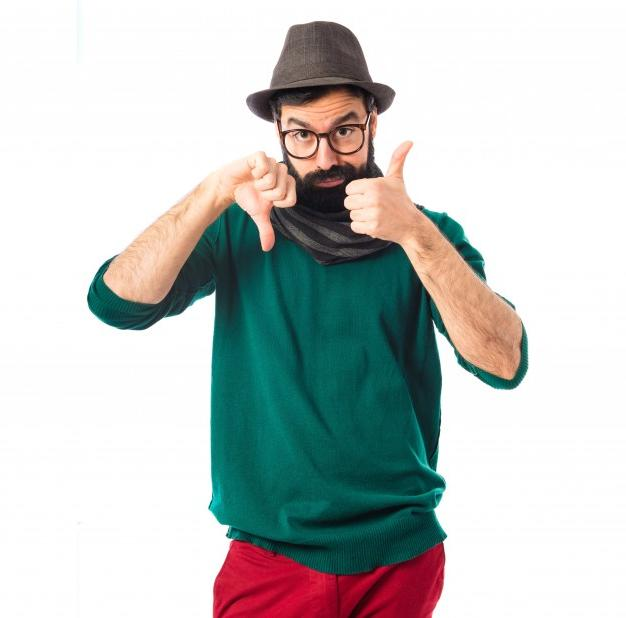thumbsup: (344, 140, 413, 235)
